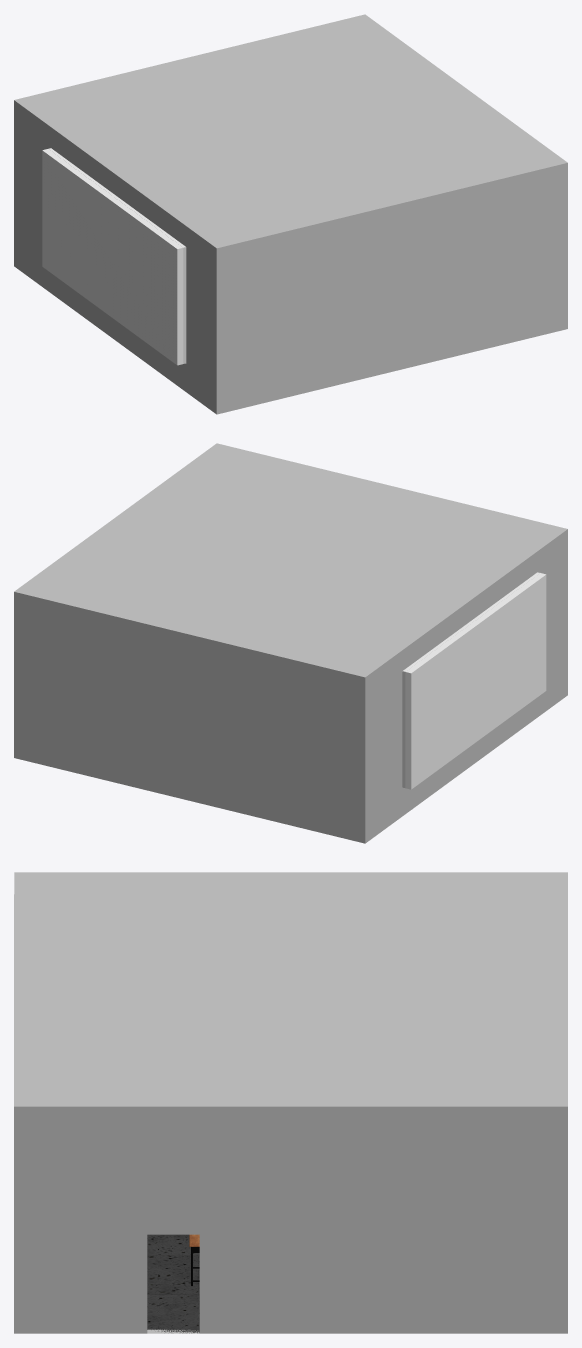
The model's file is classroom.fbx.
3 views of the same model, one above another, from view 1: azimuth 30°, elevation 25°; view 2: azimuth 150°, elevation 25°; view 3: azimuth 270°, elevation 25° (orthographic). The views are drawn at different scales.
Visible parts, largest first — view 1: Classroom, CTRL_Hole; view 2: Classroom, CTRL_Hole; view 3: Classroom, Plane.003.
Boxes of the visible parts, <box> form: Classroom: <box>14,14,567,414</box>; CTRL_Hole: <box>42,148,185,365</box>; Classroom: <box>14,443,567,843</box>; CTRL_Hole: <box>403,572,546,789</box>; Classroom: <box>14,872,567,1333</box>; Plane.003: <box>147,1234,199,1333</box>.
Size of the model in its own units: 923 by 407 by 900.
Materials: 11 (8 with a texture image).
